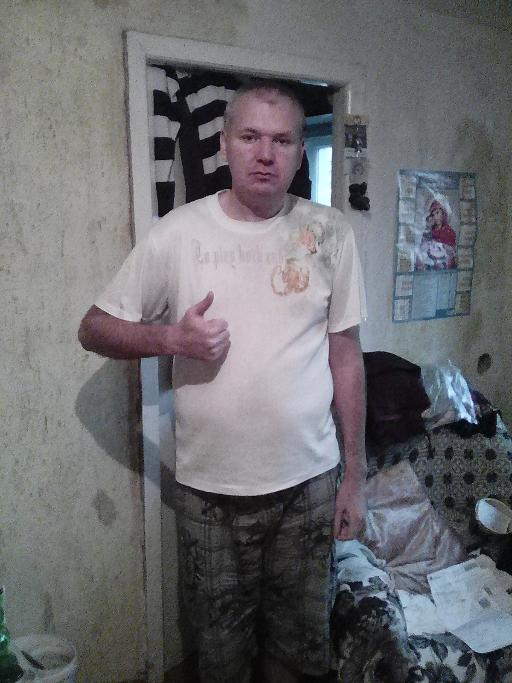like: (174, 290, 231, 363)
no_gesture: (332, 478, 368, 541)
